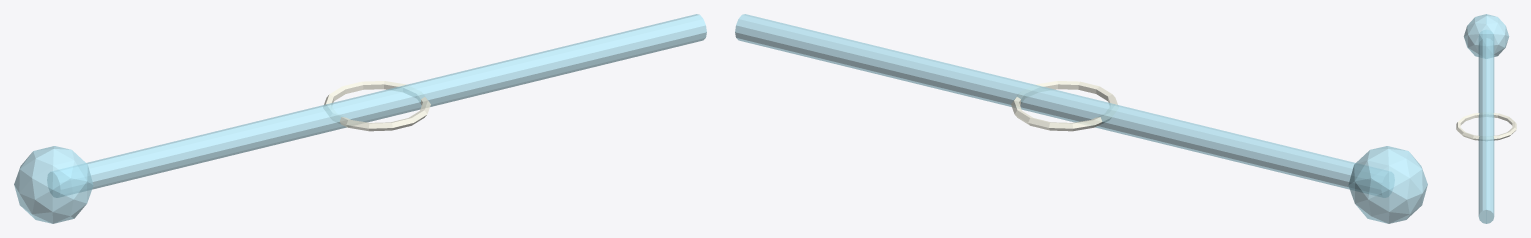
Rendered from vfx_crystalline_beam_blue.glb.
The picture shows the model from 3 angles, left to right: view 1: azimuth 30°, elevation 25°; view 2: azimuth 150°, elevation 25°; view 3: azimuth 270°, elevation 25°; orthographic projection. The views are drawn at different scales.
Visible parts, largest first — view 1: beam_core, origin, ring; view 2: beam_core, origin, ring; view 3: beam_core, origin, ring.
Part boxes in pixels (x1,y1,x2,y2): beam_core: (47, 14, 706, 197); origin: (14, 146, 93, 223); ring: (323, 81, 430, 131); beam_core: (735, 14, 1394, 197); origin: (1348, 146, 1427, 223); ring: (1011, 81, 1118, 131); beam_core: (1478, 30, 1494, 223); origin: (1463, 14, 1509, 58); ring: (1456, 113, 1516, 140).
Size of the model in its own units: 3.16 by 0.32 by 0.4251.
